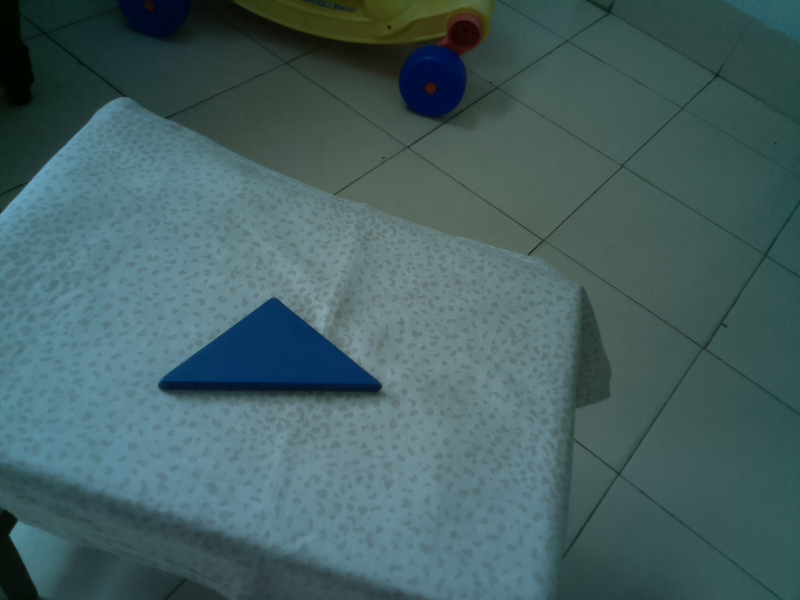Triangle: (154, 293, 391, 402)
